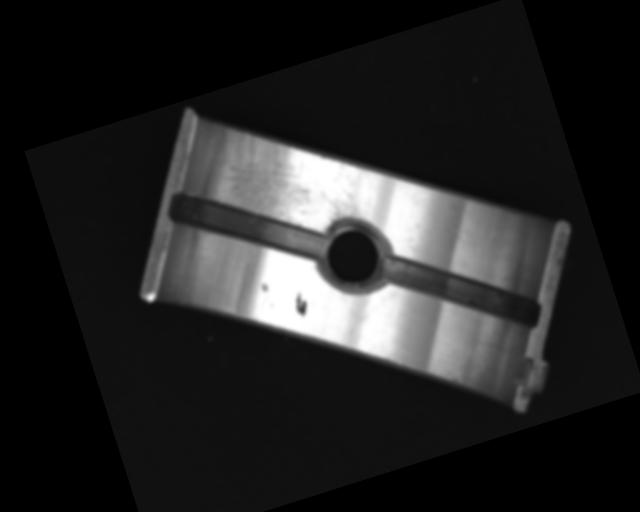blot: (291, 290, 311, 318)
bruise: (259, 281, 269, 293)
gap: (375, 218, 546, 366), (162, 156, 325, 294)
hole: (309, 211, 401, 301)
scratch: (203, 95, 367, 260)
